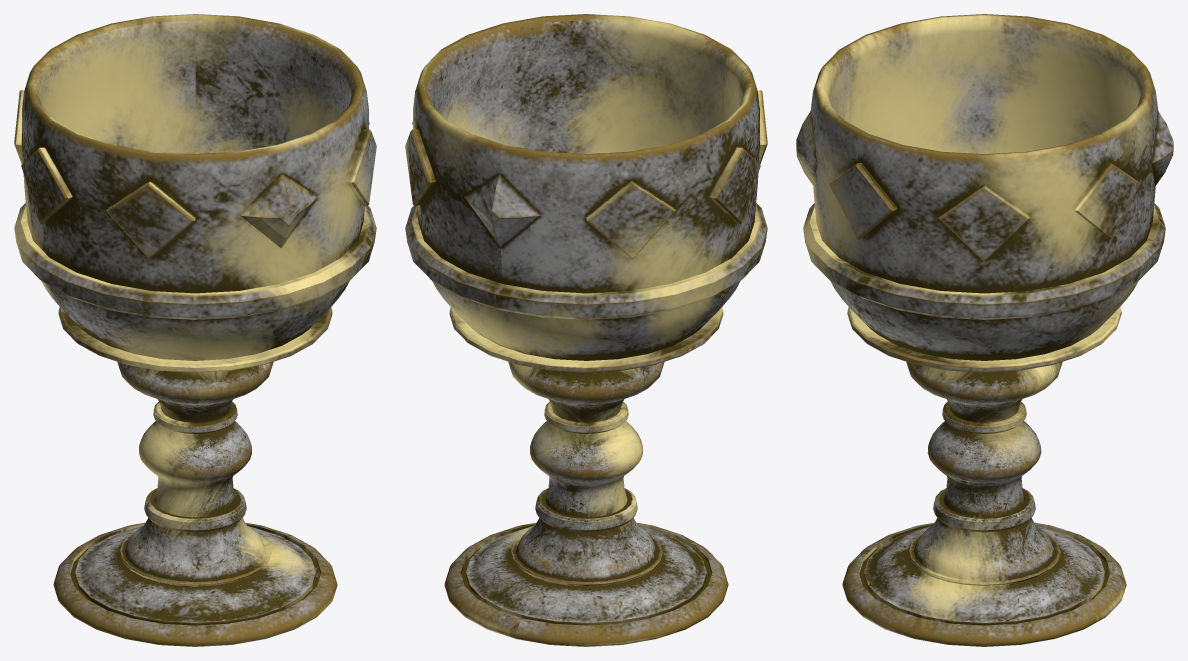
File: silver_trophy.glb
3 views of the same model, side by side, from view 1: azimuth 30°, elevation 25°; view 2: azimuth 150°, elevation 25°; view 3: azimuth 270°, elevation 25° (orthographic).
Visible parts, largest first — view 1: goblet; view 2: goblet; view 3: goblet.
Boxes of the visible parts, x1,y1,x2,y2 form: goblet: (14,14,376,646); goblet: (405,14,767,646); goblet: (796,14,1173,646).
Bounding box in the file's own units: 1.31 × 2 × 1.35.
Materials: 1 (1 with a texture image).
